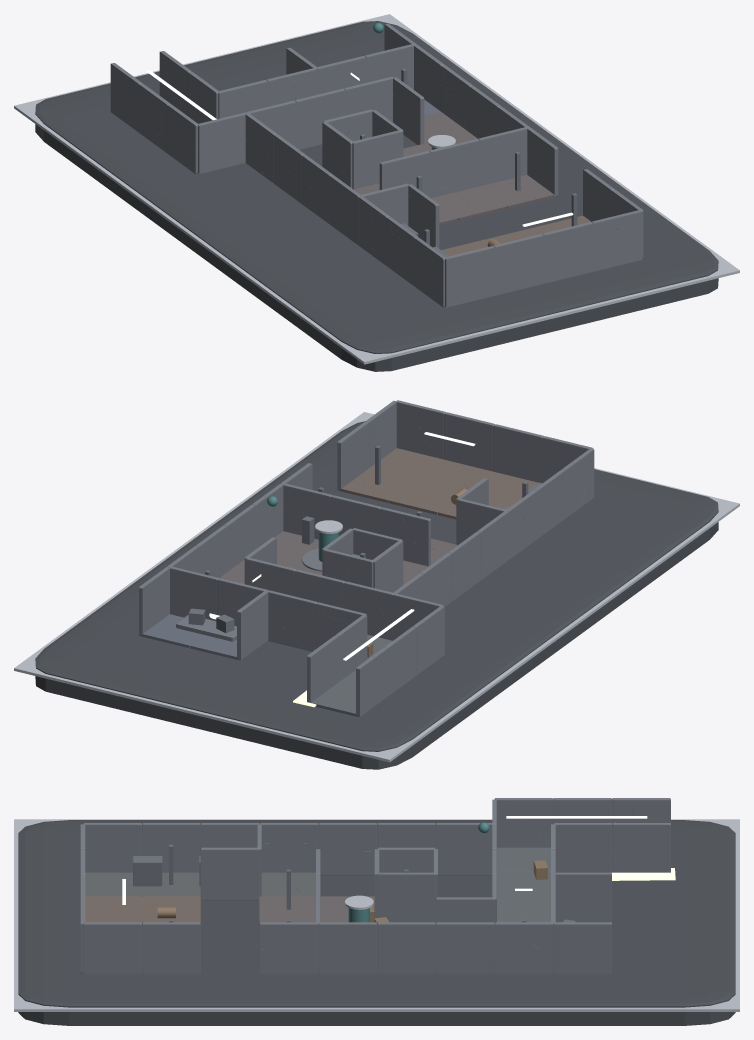
Rendered from map_final.fbx.
3 renders of one model, top to bottom at view 1: azimuth 30°, elevation 25°; view 2: azimuth 150°, elevation 25°; view 3: azimuth 270°, elevation 25°, orthographic. The views are drawn at different scales.
Parts seen in each view (by area): view 1: Foundation, BoundaryRing, BoundaryRing_cell.001, Wall_30, Wall_18_cell.002, Wall_26_cell.001, Wall_26_cell, Wall_42, Wall_02_cell.002, BoundaryRing_cell, Wall_43_cell, Wall_28_cell (+53 smaller); view 2: Foundation, BoundaryRing, Wall_30, BoundaryRing_cell.001, BoundaryRing_cell, Wall_10, Wall_42, Wall_25, Floor_19, Wall_04_cell, Wall_12, Wall_19_cell (+50 smaller); view 3: Foundation, BoundaryRing, Wall_12, Wall_25, Wall_42, Wall_10, BoundaryRing_cell, Wall_08_cell, Wall_34_cell, Wall_03.002_cell, Wall_38_cell, Wall_17_cell (+64 smaller).
Part boxes in pixels (bbox=[...]): Foundation: bbox=[35, 21, 718, 371]; BoundaryRing: bbox=[14, 14, 739, 364]; BoundaryRing_cell.001: bbox=[14, 82, 534, 364]; Wall_30: bbox=[542, 222, 593, 283]; Wall_18_cell.002: bbox=[303, 88, 345, 147]; Wall_26_cell.001: bbox=[467, 246, 495, 302]; Wall_26_cell: bbox=[445, 251, 471, 307]; Wall_42: bbox=[583, 169, 614, 221]; Wall_02_cell.002: bbox=[352, 130, 402, 166]; BoundaryRing_cell: bbox=[142, 15, 739, 322]; Wall_43_cell: bbox=[447, 139, 479, 188]; Wall_28_cell: bbox=[493, 245, 527, 295]; Foundation: bbox=[35, 421, 718, 769]; BoundaryRing: bbox=[14, 412, 739, 762]; Wall_30: bbox=[444, 412, 494, 471]; BoundaryRing_cell.001: bbox=[271, 468, 739, 761]; BoundaryRing_cell: bbox=[14, 412, 373, 732]; Wall_10: bbox=[237, 591, 268, 660]; Wall_42: bbox=[337, 421, 369, 490]; Wall_25: bbox=[139, 567, 169, 635]; Floor_19: bbox=[388, 479, 459, 514]; Wall_04_cell: bbox=[343, 581, 392, 640]; Wall_12: bbox=[366, 400, 396, 467]; Wall_19_cell: bbox=[289, 595, 317, 651]; Foundation: bbox=[18, 820, 735, 1025]; BoundaryRing: bbox=[14, 819, 739, 1011]; Wall_12: bbox=[83, 922, 141, 974]; Wall_25: bbox=[553, 922, 611, 974]; Wall_42: bbox=[142, 922, 200, 974]; Wall_10: bbox=[554, 872, 611, 922]; BoundaryRing_cell: bbox=[14, 1009, 739, 1011]; Wall_08_cell: bbox=[435, 922, 494, 974]; Wall_34_cell: bbox=[494, 937, 553, 974]; Wall_03.002_cell: bbox=[438, 823, 493, 875]; Wall_38_cell: bbox=[205, 859, 259, 900]; Wall_17_cell: bbox=[494, 798, 550, 847].
Size of the model in its own units: 3060 by 1038 by 4940.
